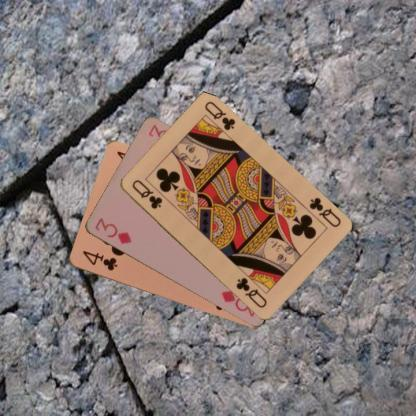3d: (92, 215, 132, 245)
4c: (79, 248, 119, 272)
Qc: (306, 195, 342, 229), (129, 177, 163, 210)
